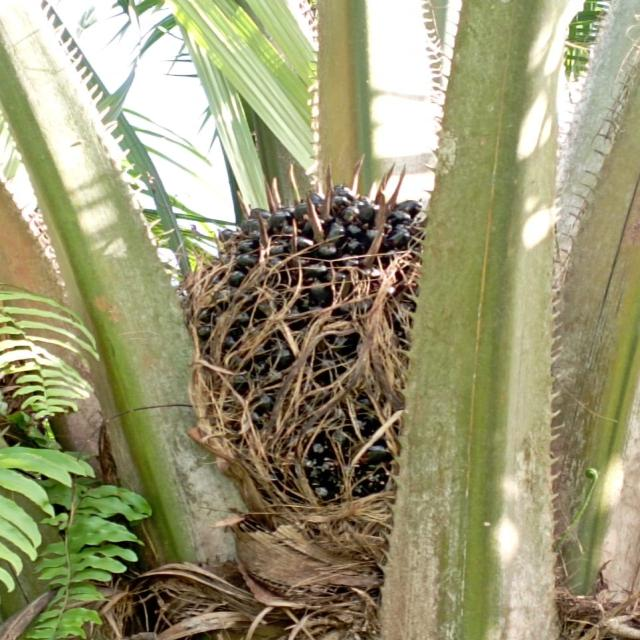fraksi 00: (176, 145, 502, 460)
